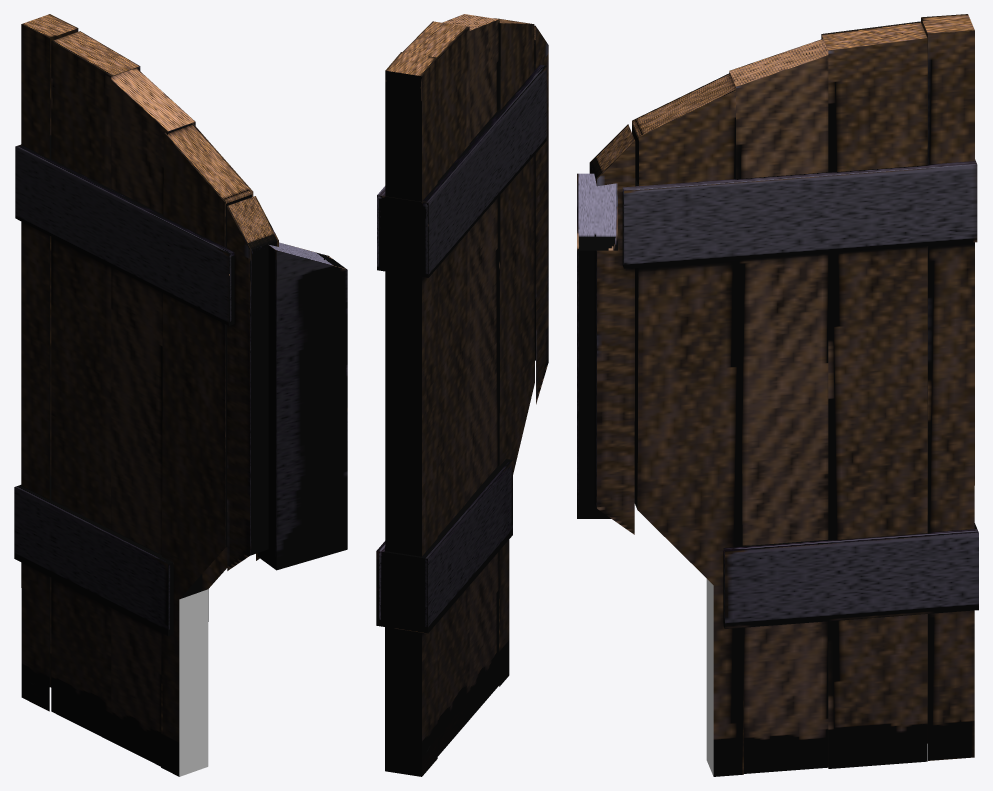
File: DoorSide1F8.obj
3 views of the same model, side by side, from view 1: azimuth 30°, elevation 25°; view 2: azimuth 150°, elevation 25°; view 3: azimuth 270°, elevation 25° (orthographic). The views are drawn at different scales.
Visible parts, largest first — view 1: object 2, DoorSide1F8_Cube.437; view 2: object 2; view 3: object 2, DoorSide1F8_Cube.437.
Boxes of the visible parts, box(x1,y1,x2,y2) form: object 2: box(14, 14, 347, 776); DoorSide1F8_Cube.437: box(179, 589, 208, 776); object 2: box(376, 14, 548, 776); object 2: box(577, 14, 978, 776); DoorSide1F8_Cube.437: box(706, 579, 713, 776).
Size of the model in its own units: 42 by 178 by 89.37.
